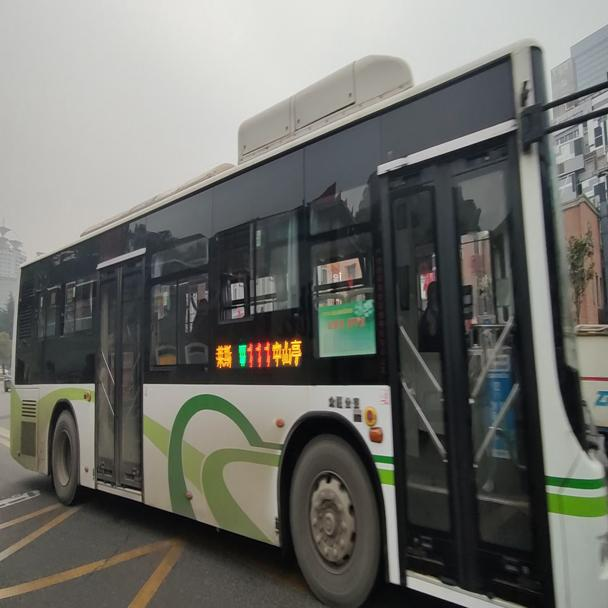bus: (15, 33, 587, 587)
screen: (246, 344, 271, 367)
